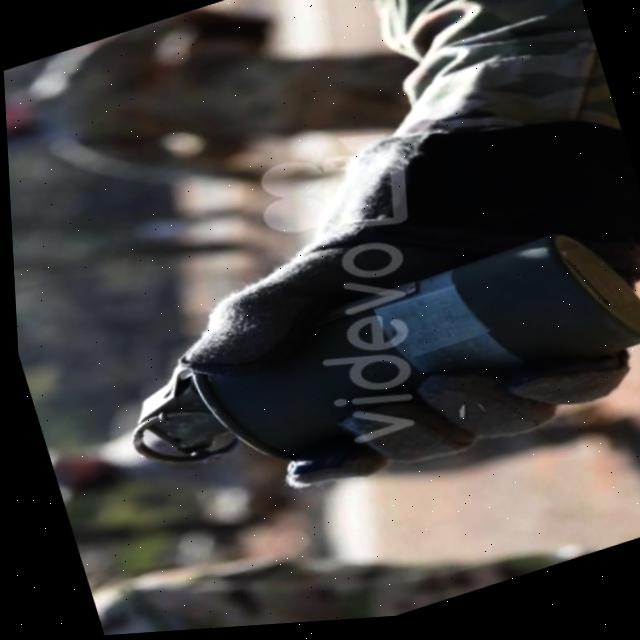grenade: (67, 119, 640, 597)
